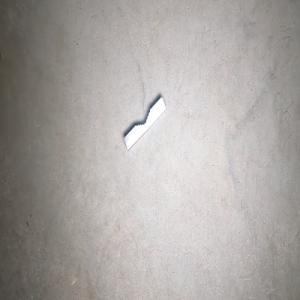ClampPart: (123, 95, 166, 151)
